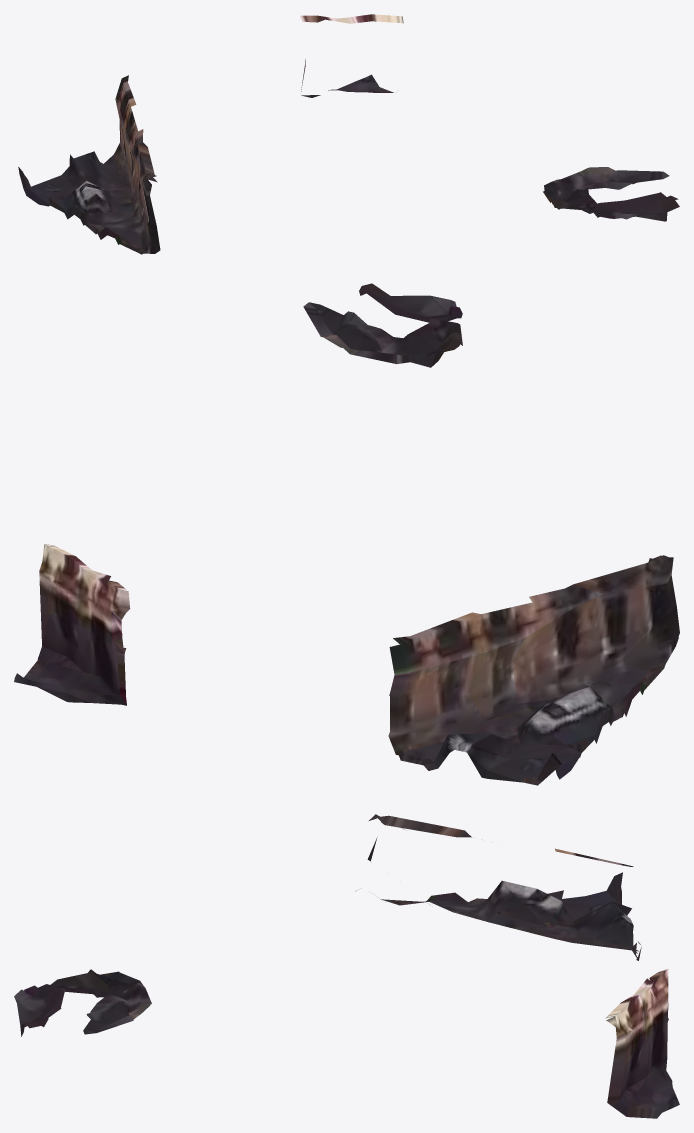
3 views of the same model, one above another, from view 1: azimuth 30°, elevation 25°; view 2: azimuth 150°, elevation 25°; view 3: azimuth 270°, elevation 25° (orthographic). The views are drawn at different scales.
Parts seen in each view (by area): view 1: Mesh_0; view 2: Mesh_0; view 3: Mesh_0.
Part boxes in pixels (bbox=[...]): Mesh_0: bbox=[18, 14, 679, 254]; Mesh_0: bbox=[14, 283, 679, 785]; Mesh_0: bbox=[14, 814, 679, 1118].
Bounding box in the file's own units: 32.56 × 6.95 × 38.93.
1 material, 1 textured.
